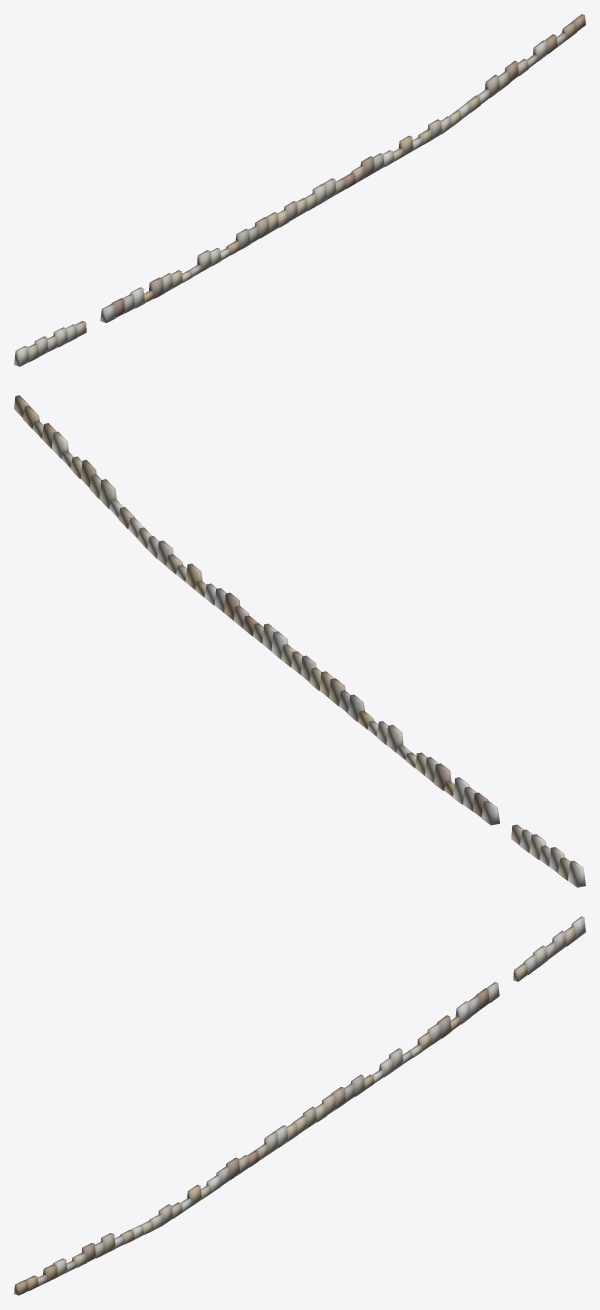
The model's file is farm_-17_-26_collision.glb.
The picture shows the model from 3 angles, top to bottom: view 1: azimuth 90°, elevation 25°; view 2: azimuth 150°, elevation 25°; view 3: azimuth 270°, elevation 25°; orthographic projection. The views are drawn at different scales.
Visible parts, largest first — view 1: geometry_0; view 2: geometry_0; view 3: geometry_0.
Part boxes in pixels (bbox=[...]): geometry_0: bbox=[14, 14, 585, 366]; geometry_0: bbox=[14, 395, 585, 887]; geometry_0: bbox=[14, 916, 585, 1295].
Bounding box in the file's own units: 78.13 × 4.61 × 53.34.
